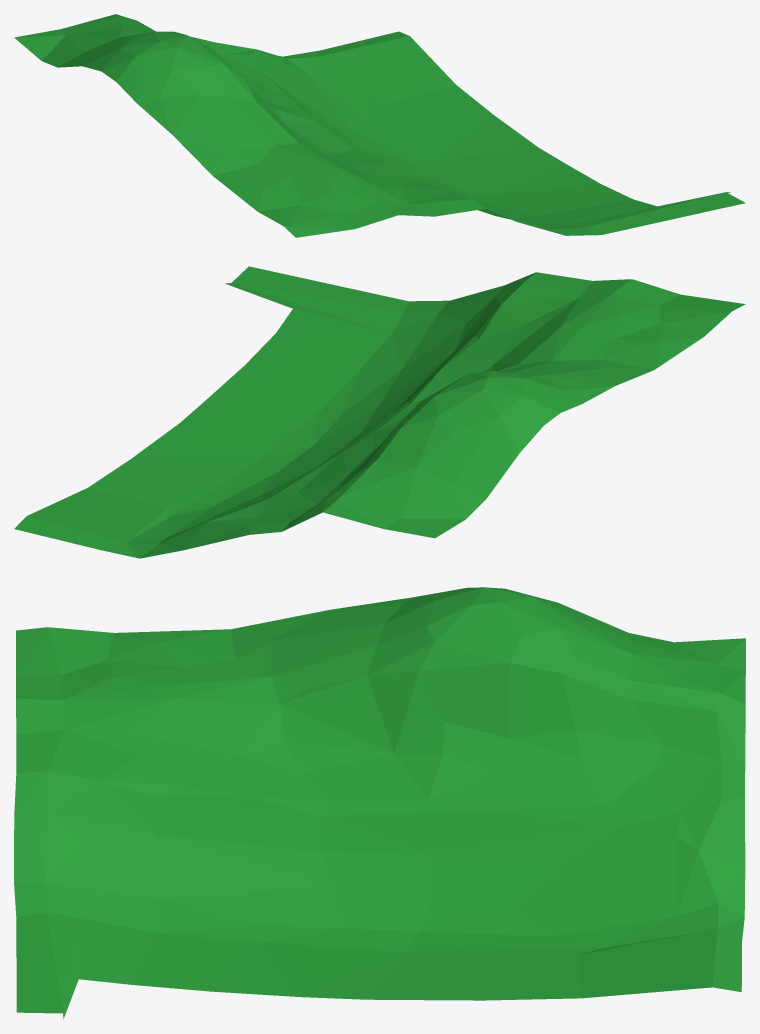
The model's file is Field_R7.fbx.
3 renders of one model, top to bottom at view 1: azimuth 30°, elevation 25°; view 2: azimuth 150°, elevation 25°; view 3: azimuth 270°, elevation 25°, orthographic. The views are drawn at different scales.
Visible parts, largest first — view 1: R7; view 2: R7; view 3: R7.
Part boxes in pixels (box(x1,y1,x2,y2)): R7: box(14, 14, 745, 237); R7: box(14, 266, 745, 558); R7: box(14, 587, 745, 1019).
Bounding box in the file's own units: 2888 × 914 × 3072.
